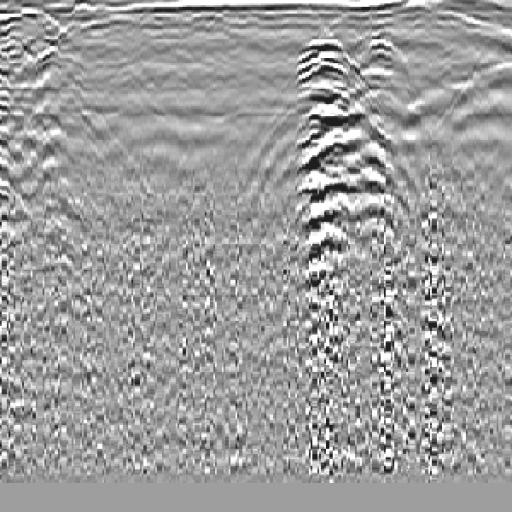metalic: (289, 34, 402, 302)
